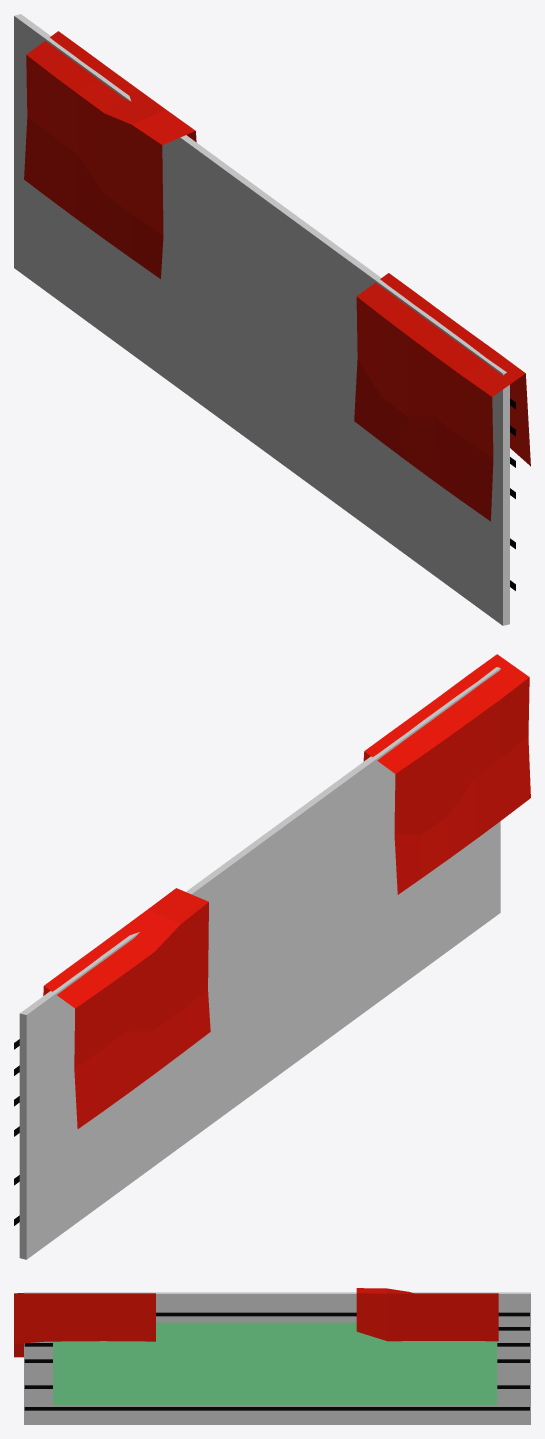
Rendered from cutscene text box.fbx.
The picture shows the model from 3 angles, top to bottom: view 1: azimuth 30°, elevation 25°; view 2: azimuth 150°, elevation 25°; view 3: azimuth 270°, elevation 25°; orthographic projection. The views are drawn at different scales.
Visible parts, largest first — view 1: Cube, Plane.006, Plane.007; view 2: Cube, Plane.007, Plane.006; view 3: Plane.008, Cube, Plane.006, Plane.007, Plane.003, Plane.005, Plane, Plane.001, Plane.002.
Boxes of the visible parts, bbox=[...] form: Cube: bbox=[14, 14, 509, 625]; Plane.006: bbox=[354, 273, 530, 521]; Plane.007: bbox=[24, 31, 196, 278]; Cube: bbox=[19, 667, 500, 1259]; Plane.007: bbox=[43, 888, 210, 1128]; Plane.006: bbox=[363, 654, 530, 894]; Plane.008: bbox=[53, 1322, 497, 1405]; Cube: bbox=[24, 1292, 530, 1424]; Plane.006: bbox=[14, 1293, 155, 1357]; Plane.007: bbox=[356, 1288, 498, 1341]; Plane.003: bbox=[24, 1407, 529, 1410]; Plane.005: bbox=[156, 1312, 529, 1316]; Plane: bbox=[24, 1359, 529, 1362]; Plane.001: bbox=[24, 1343, 529, 1346]; Plane.002: bbox=[24, 1385, 529, 1388].
Size of the model in its own units: 35.17 by 207 by 727.
